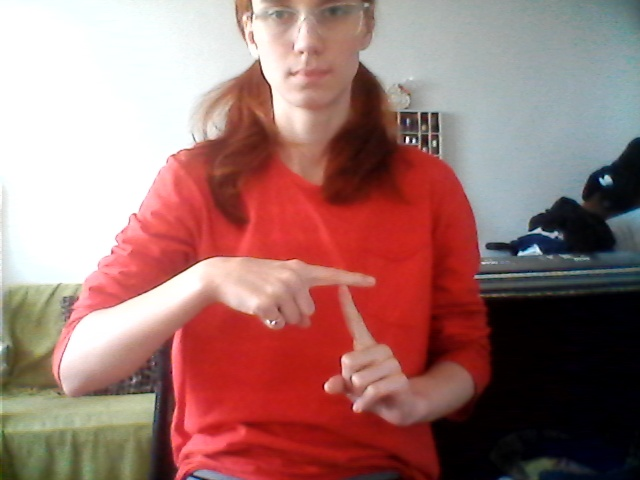t: (245, 241, 415, 428)
